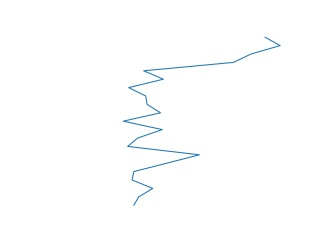crevasseRiverChannelBar: (120, 33, 286, 207)
